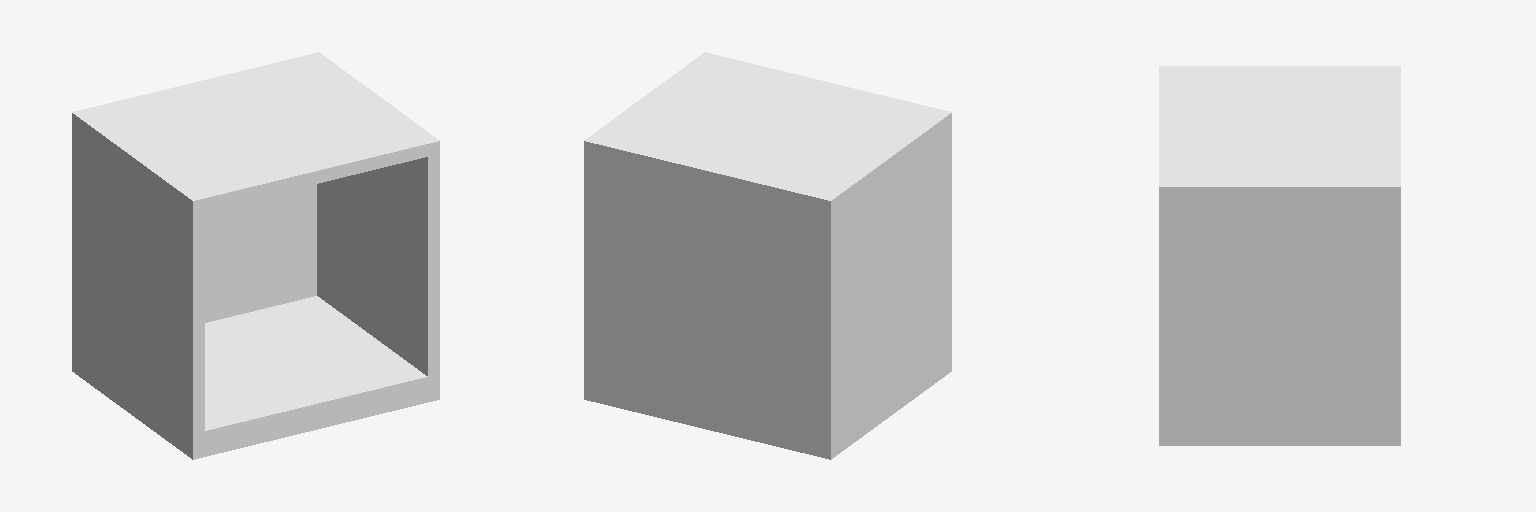
The model's file is entrance3-0-lod3.obj.
3 views of the same model, side by side, from view 1: azimuth 30°, elevation 25°; view 2: azimuth 150°, elevation 25°; view 3: azimuth 270°, elevation 25° (orthographic).
Visible parts, largest first — view 1: lod3; view 2: lod3; view 3: lod3.
Boxes of the visible parts, box(x1,y1,x2,y2) form: lod3: box(72, 52, 439, 459); lod3: box(584, 52, 951, 459); lod3: box(1159, 66, 1400, 445).
Size of the model in its own units: 16 by 16 by 13.6.